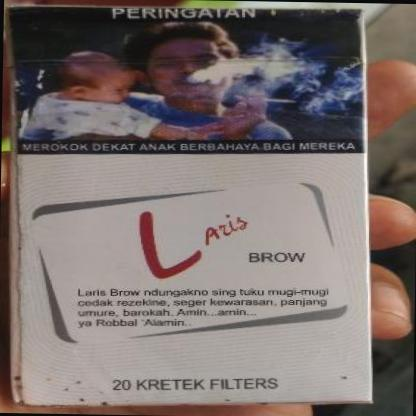objects: (0, 2, 378, 411)
